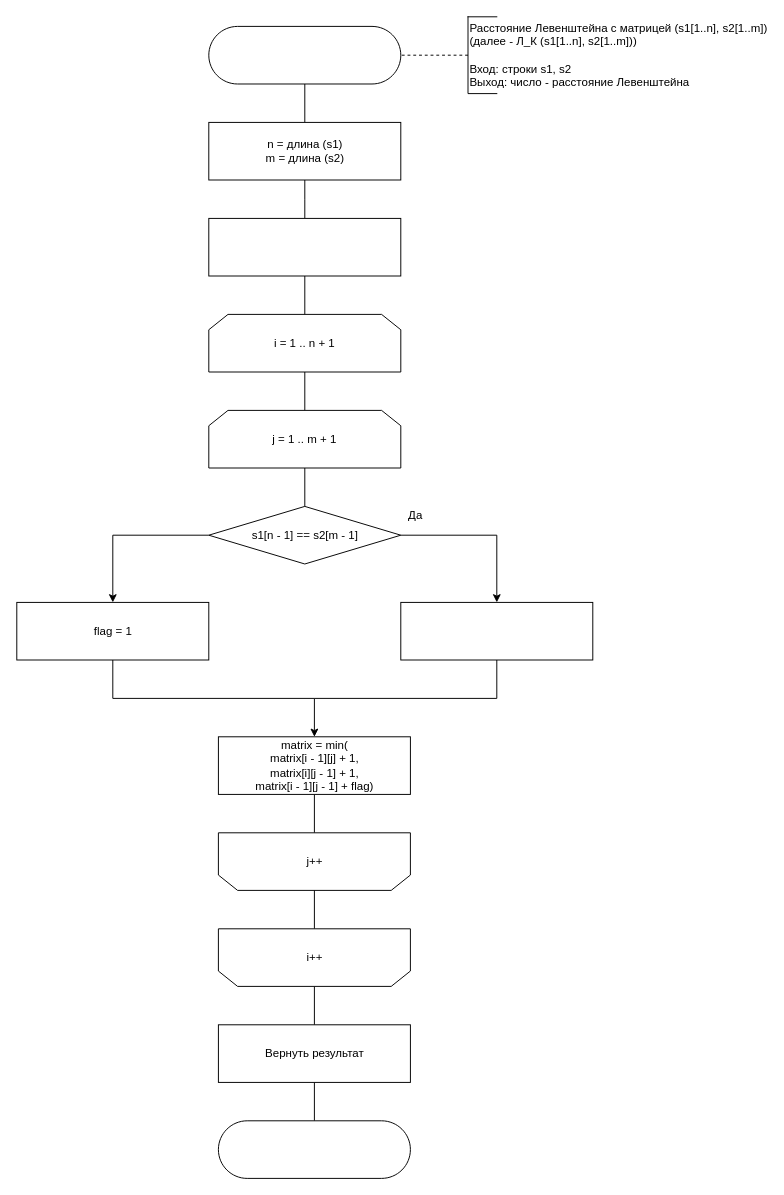
Some shapes in this 784 by 1195 pixel diagram are drawn without their labels. The shapes that lost their labels are listed below. From the top down, each one's centre as x and y in pixels, then its label:
At [304,54]: "Начало".
At [304,246]: "Создать матрицу и заполнить ее нулевую строку и нулевой столбец".
At [496,630]: "flag = 0".
At [313,1149]: "Конец".
